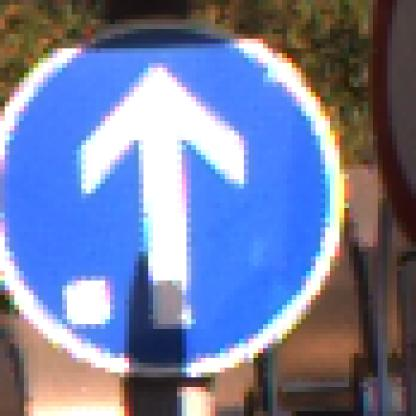AheadOnly: (39, 35, 384, 383)
